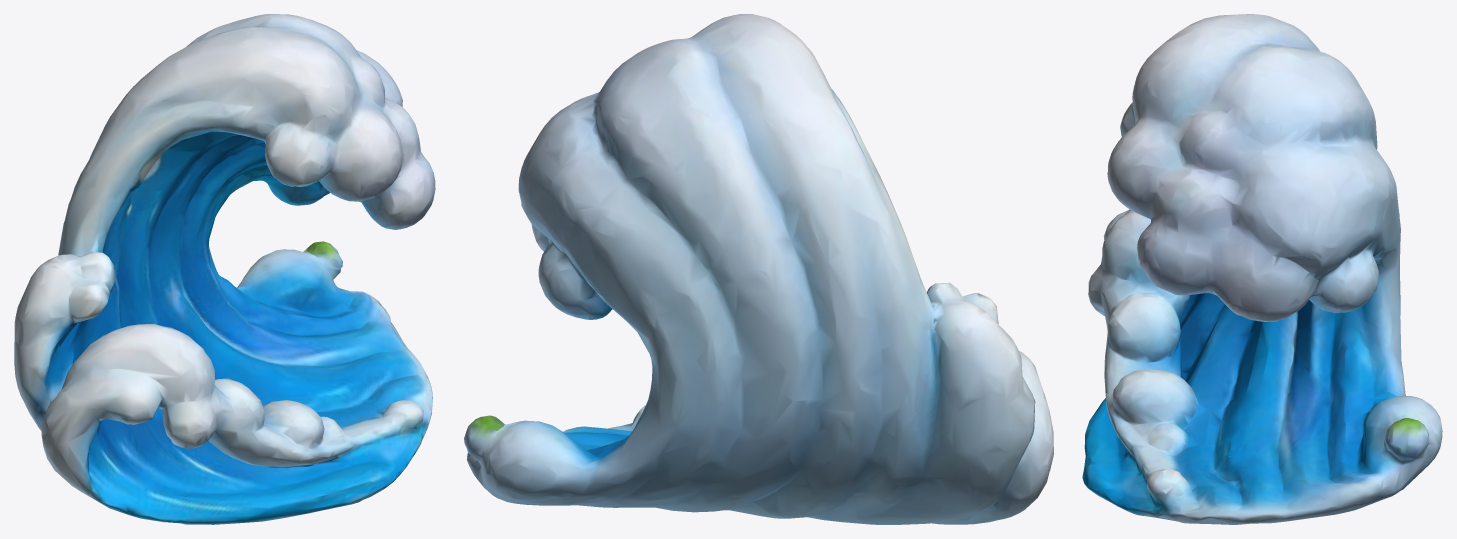
Rendered from wave.glb.
The picture shows the model from 3 angles, left to right: view 1: azimuth 30°, elevation 25°; view 2: azimuth 150°, elevation 25°; view 3: azimuth 270°, elevation 25°; orthographic projection. The views are drawn at different scales.
Bounding box in the file's own units: 1 × 0.9641 × 0.703.
Materials: 1 (1 with a texture image).
